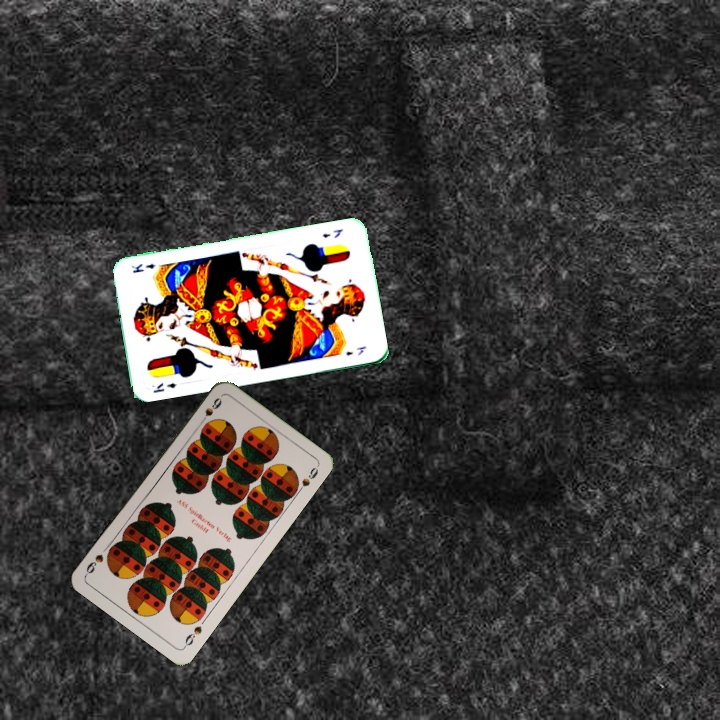EK: (149, 379, 179, 395), (319, 225, 346, 240)
S9: (195, 393, 225, 428), (180, 622, 205, 651)
